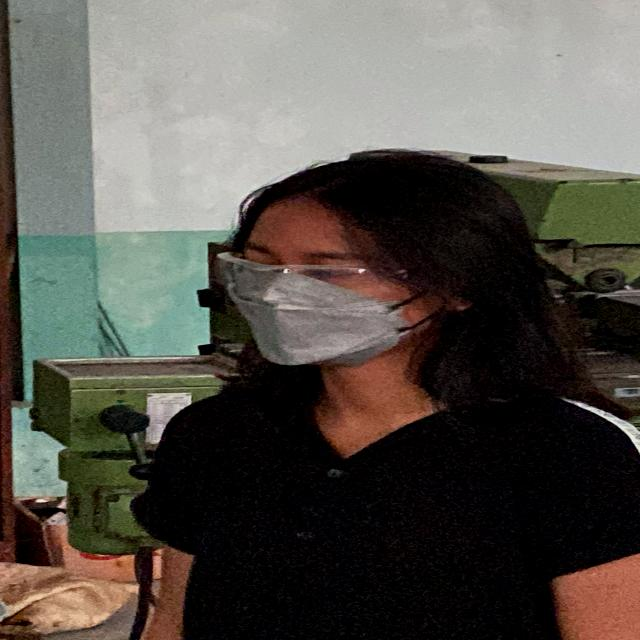face_mask: (220, 245, 401, 368)
glasses: (210, 250, 426, 302)
head_nohelmet: (231, 145, 496, 241)
person: (94, 145, 640, 639)
